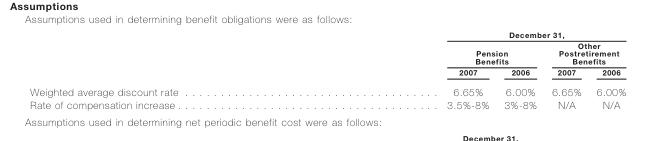table: (29, 29, 625, 109)
table column: (29, 29, 311, 109), (311, 29, 495, 109), (495, 29, 543, 109), (543, 29, 588, 109), (588, 29, 625, 109)
table column header: (29, 29, 625, 81)
table row: (29, 39, 625, 66), (29, 81, 625, 97), (29, 66, 625, 81), (29, 97, 625, 109), (29, 29, 625, 39)
table spanning cell: (311, 39, 543, 66), (311, 29, 625, 39), (543, 39, 625, 66)
